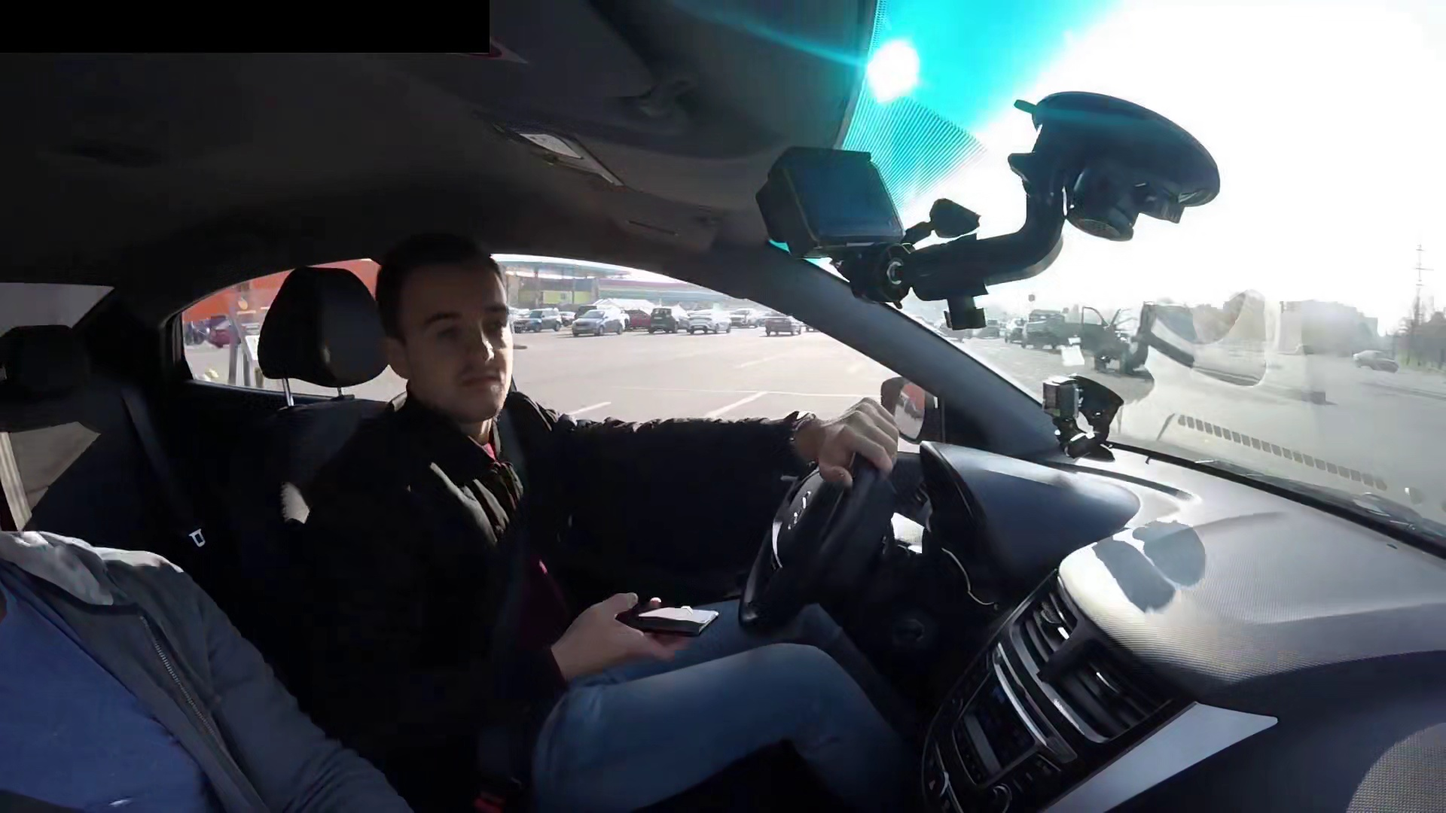car: (21, 222, 940, 785), (1001, 478, 1446, 807)
